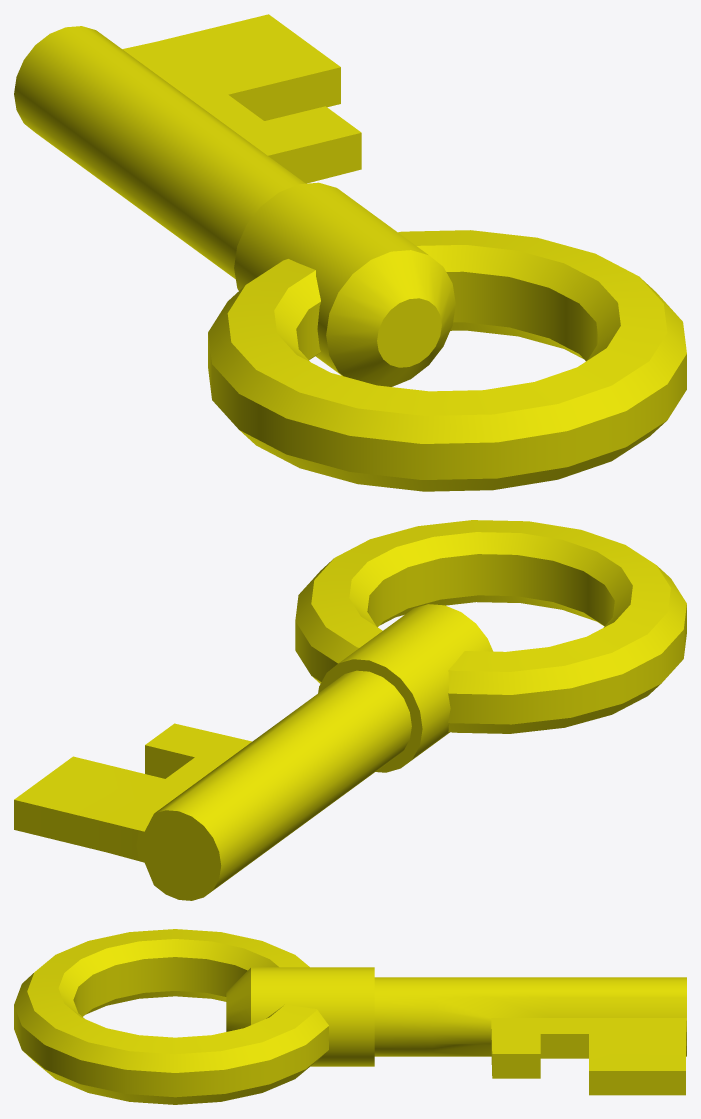
File: golden_key.fbx
3 renders of one model, top to bottom at view 1: azimuth 30°, elevation 25°; view 2: azimuth 150°, elevation 25°; view 3: azimuth 270°, elevation 25°, orthographic. The views are drawn at different scales.
Visible parts, largest first — view 1: key; view 2: key; view 3: key.
Boxes of the visible parts, bbox=[...] form: key: bbox=[14, 14, 686, 491]; key: bbox=[14, 520, 686, 900]; key: bbox=[14, 929, 686, 1104].
Size of the model in its own units: 2 by 0.6221 by 4.17.
